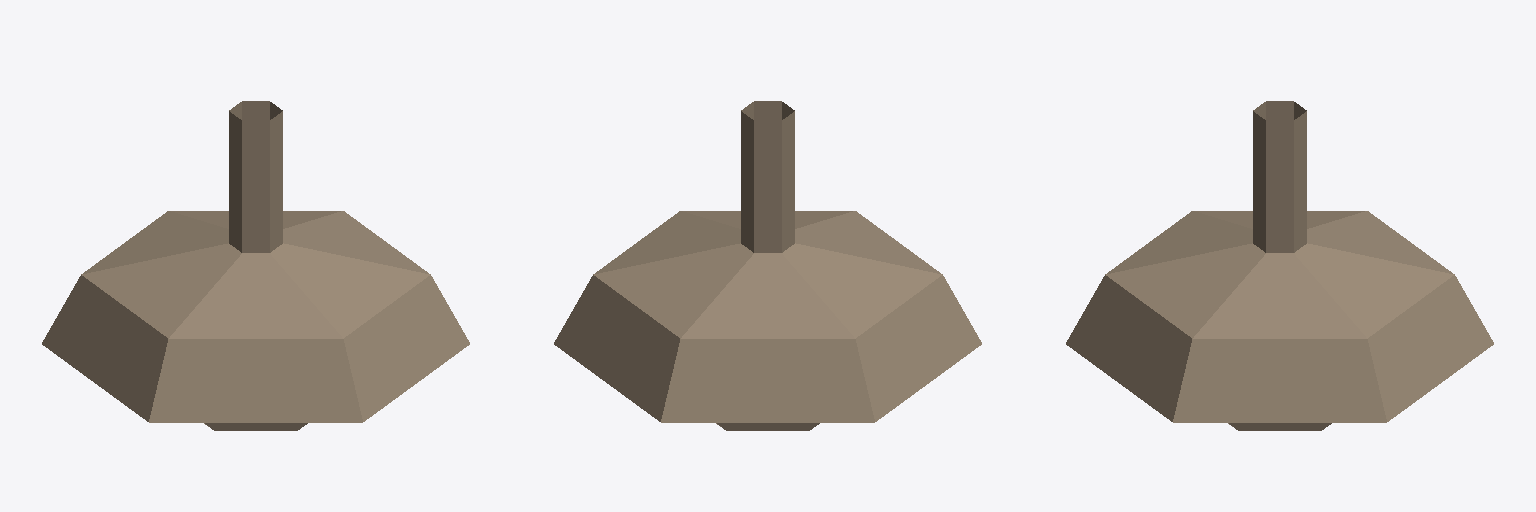
The model's file is light.obj.
3 views of the same model, side by side, from view 1: azimuth 30°, elevation 25°; view 2: azimuth 150°, elevation 25°; view 3: azimuth 270°, elevation 25° (orthographic).
Parts seen in each view (by area): view 1: Lamp_Circle.012; view 2: Lamp_Circle.012; view 3: Lamp_Circle.012.
Boxes of the visible parts, box(x1,y1,x2,y2) form: Lamp_Circle.012: box(42, 101, 469, 430); Lamp_Circle.012: box(554, 101, 981, 430); Lamp_Circle.012: box(1066, 101, 1493, 430).
Size of the model in its own units: 3.41 by 2.94 by 3.94.